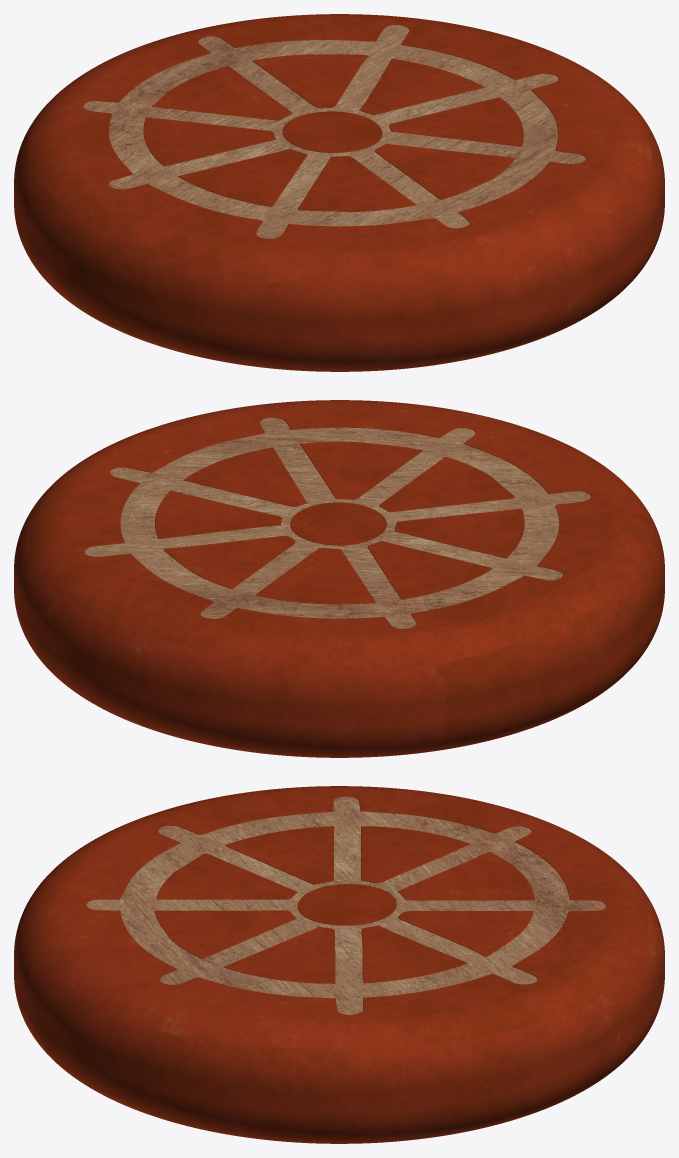
Rendered from Tile_Wheel.glb.
3 renders of one model, top to bottom at view 1: azimuth 30°, elevation 25°; view 2: azimuth 150°, elevation 25°; view 3: azimuth 270°, elevation 25°, orthographic.
Parts seen in each view (by area): view 1: Tile, Face; view 2: Tile, Face; view 3: Tile, Face.
Part boxes in pixels (<box>): Tile: <box>14,14,664,371</box>; Face: <box>83,25,585,238</box>; Tile: <box>14,400,664,757</box>; Face: <box>85,417,590,628</box>; Tile: <box>14,786,664,1143</box>; Face: <box>86,796,606,1014</box>.
Size of the model in its own units: 2 by 0.4 by 2.
2 materials, 2 textured.
